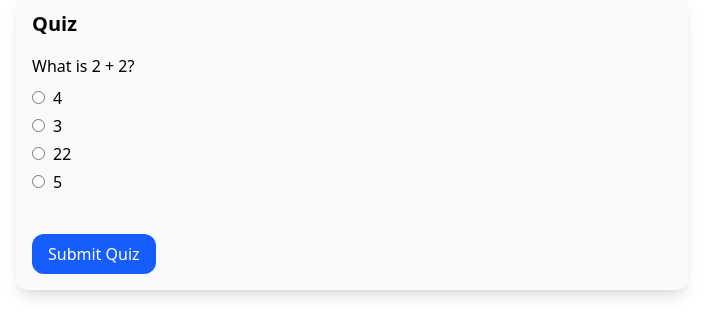
Test case: SkillQuiz component › renders quiz and handles correct answer submission
Check: the text "What is 2 + 2?" is shown, box [32, 55, 134, 77]
Click the correct answer
Click the radio button labelled "4" at (38, 98), box [32, 91, 45, 104]
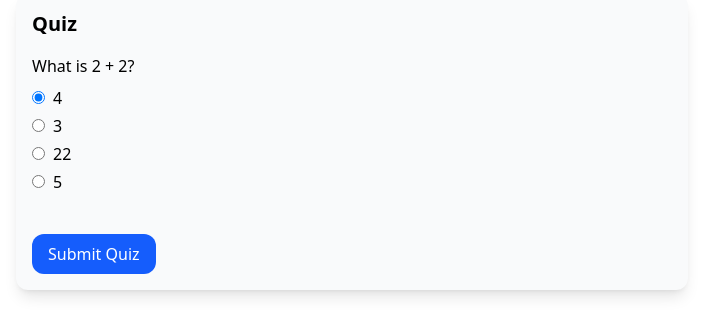
Click the submit button
Click the button "Submit Quiz" at (94, 254), box [32, 234, 156, 274]
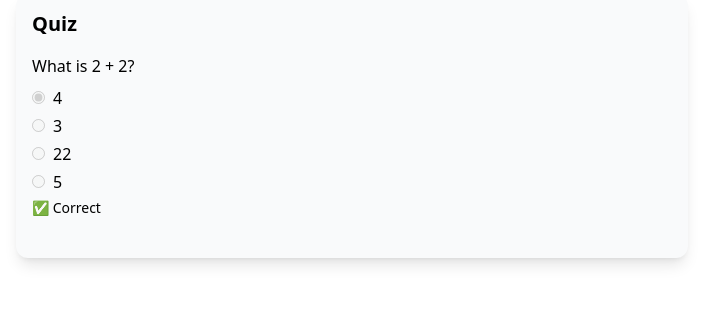
Check: the text "✅ Correct" is shown, box [32, 198, 101, 217]
